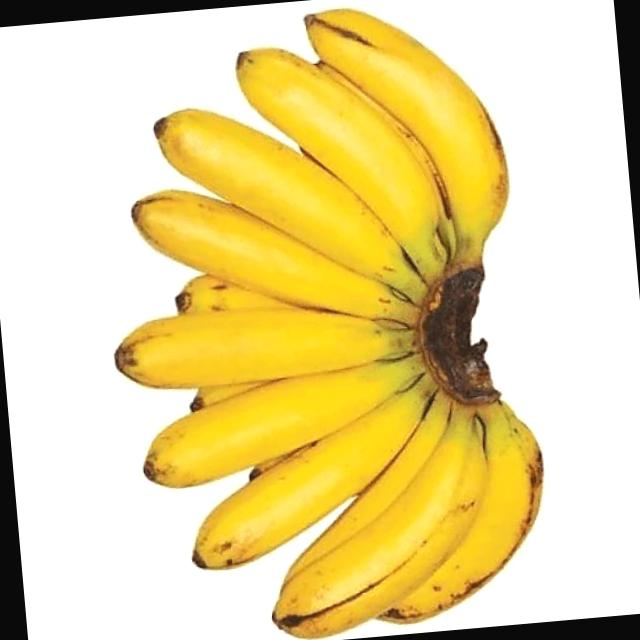banana: (75, 0, 562, 640)
